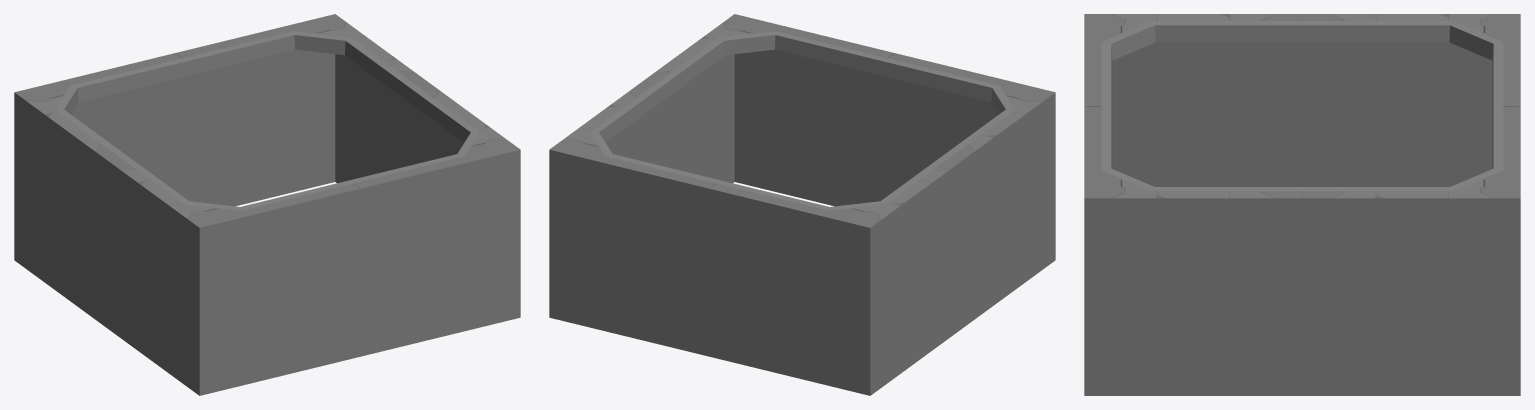
Rendered from SM_Floor_10x10_1.fbx.
The picture shows the model from 3 angles, left to right: view 1: azimuth 30°, elevation 25°; view 2: azimuth 150°, elevation 25°; view 3: azimuth 270°, elevation 25°; orthographic projection. The views are drawn at different scales.
Visible parts, largest first — view 1: SM_Floor_10x10_1; view 2: SM_Floor_10x10_1; view 3: SM_Floor_10x10_1.
Boxes of the visible parts, x1,y1,x2,y2 form: SM_Floor_10x10_1: (14, 14, 520, 395); SM_Floor_10x10_1: (549, 14, 1055, 395); SM_Floor_10x10_1: (1084, 14, 1520, 395).
Size of the model in its own units: 1000 by 500 by 1000.
